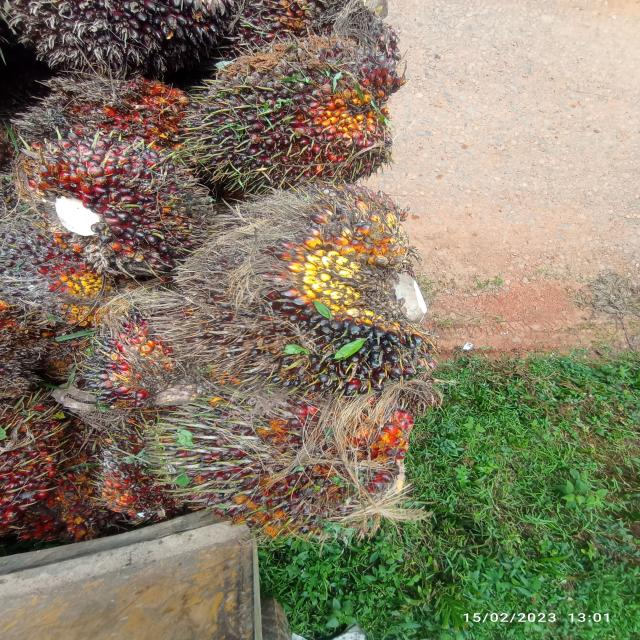fraksi 00: (161, 166, 472, 407), (176, 22, 424, 212), (82, 287, 215, 402)
fraksi 1: (138, 364, 438, 566), (10, 120, 215, 289)
fraksi 4: (12, 65, 195, 159)
